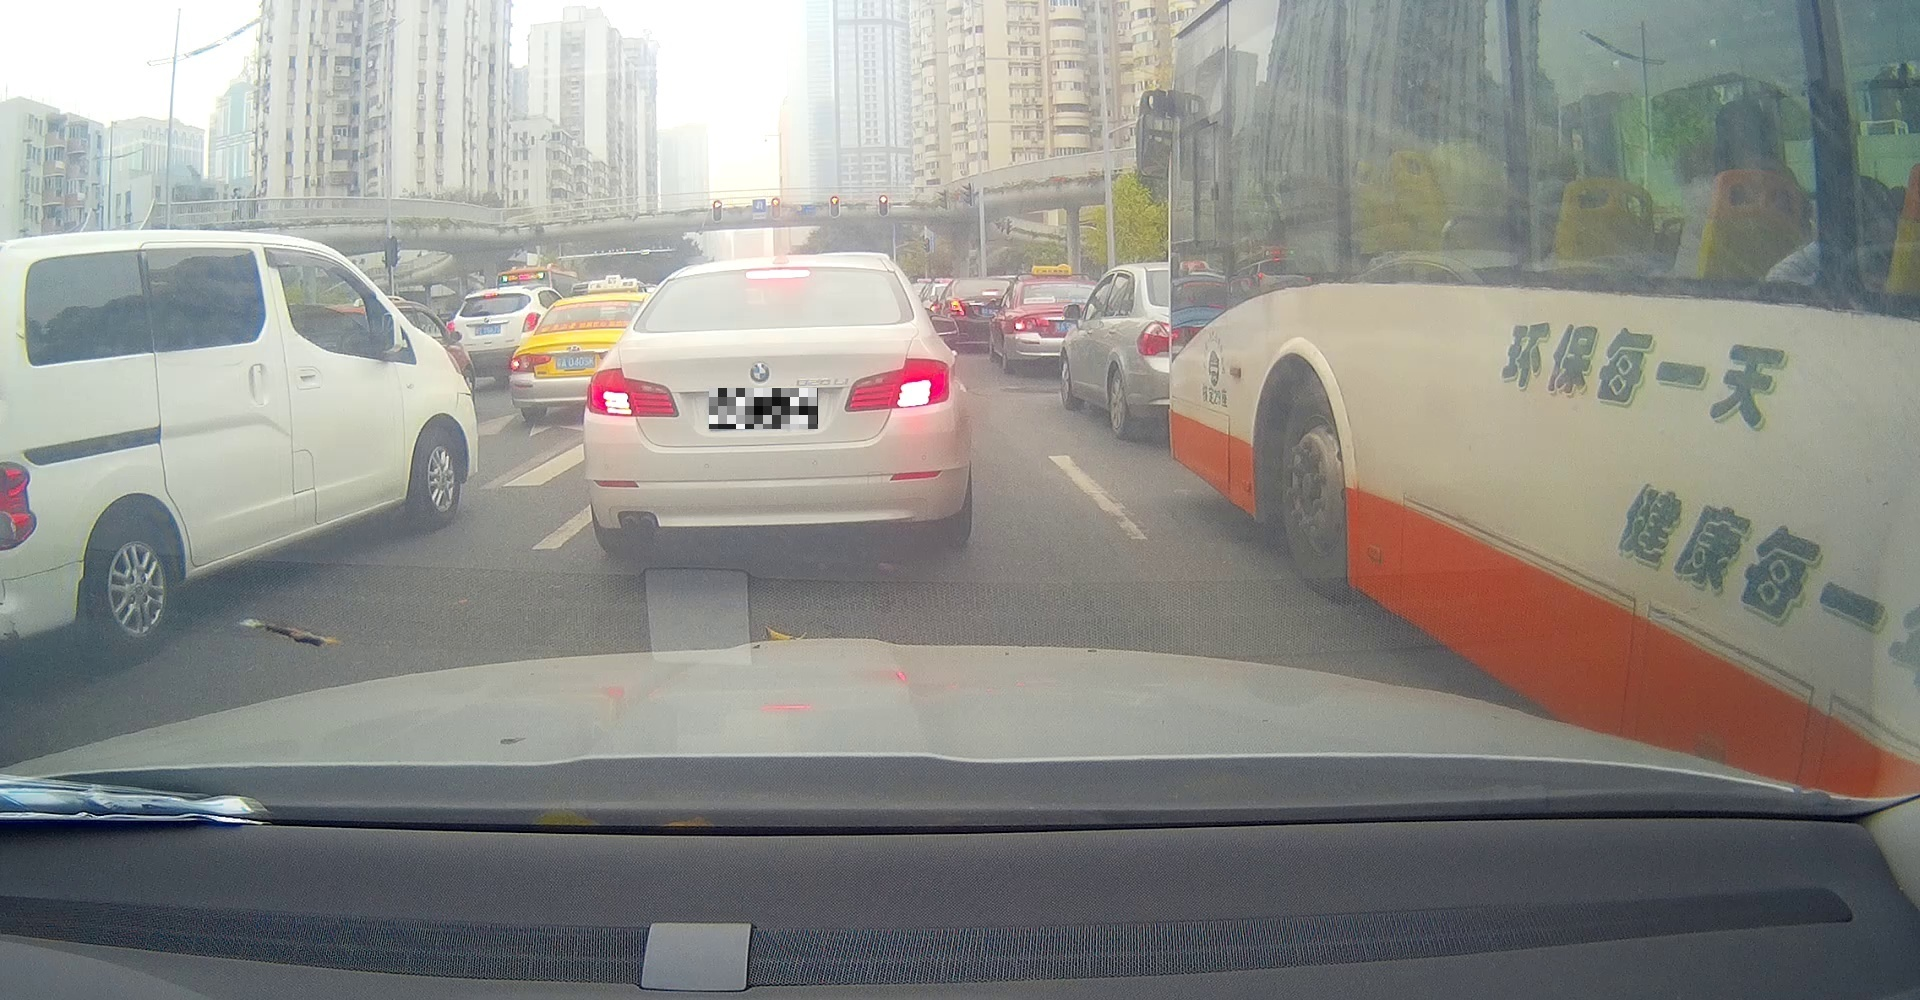L_light: (584, 367, 682, 418), (447, 322, 456, 335)
R_light: (843, 357, 952, 414), (523, 312, 538, 330)
T_light: (744, 266, 811, 279), (484, 293, 499, 297)
day-brake: (582, 253, 974, 557), (444, 284, 543, 387)
plate_1: (709, 388, 818, 429)
